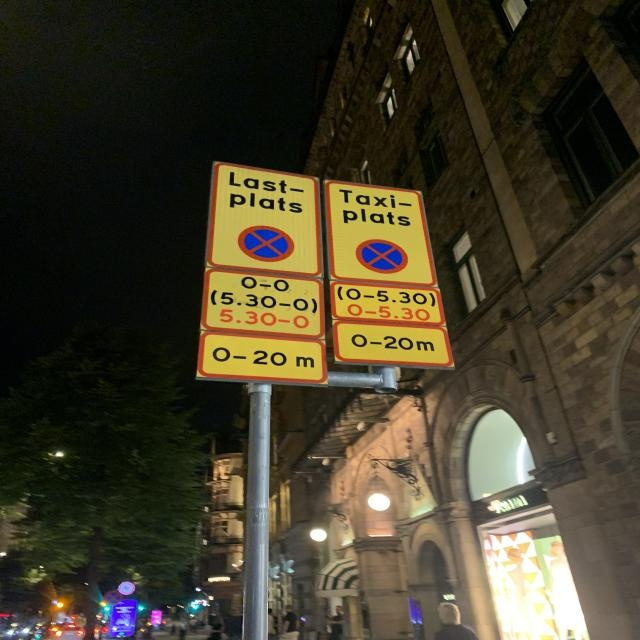lastplats: (210, 161, 320, 278)
